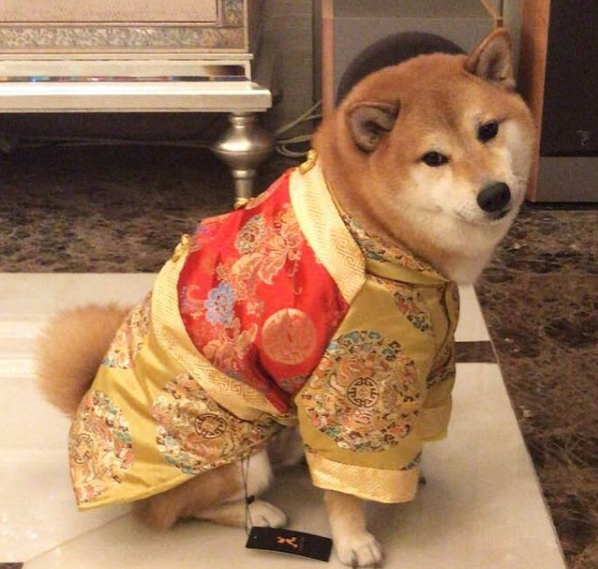perropan: (0, 0, 598, 569)
